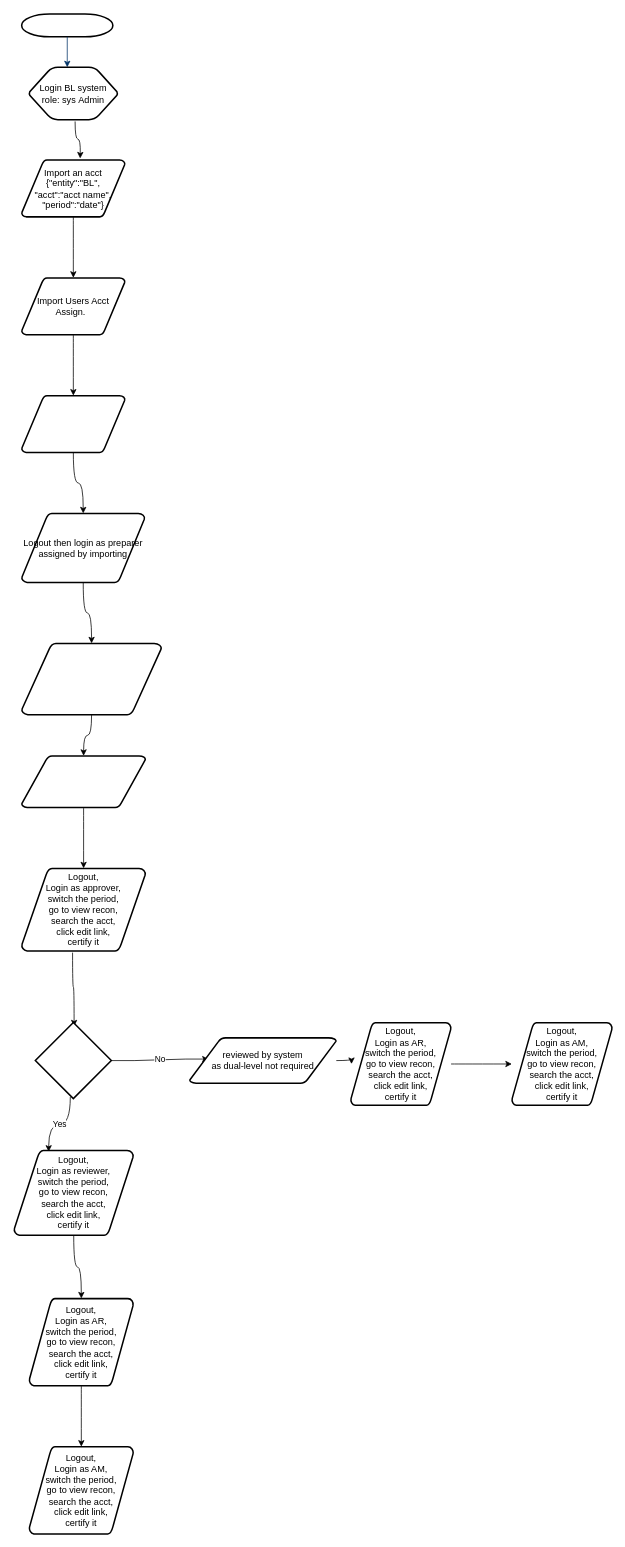
Image size: 625x1547. Some labels were removed from this diagram. Each missing label, with the centre of its shape:
"dual-level review" is checked?: (73,1060)
Click Edit link, then make the acct certifiable, certify it: (83,781)
Import Items.: (73,423)
start: (67,25)
Switch the period, the redirect to view recon page, search the acct imported: (91,678)
